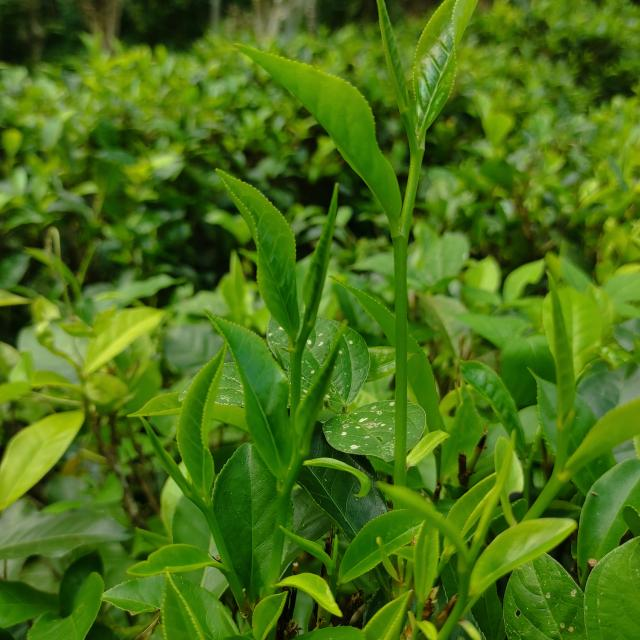unopened_leaf: (375, 476, 484, 579), (288, 181, 344, 365), (133, 410, 220, 526), (460, 429, 519, 574), (544, 268, 580, 484), (374, 0, 421, 157), (274, 517, 343, 570)
